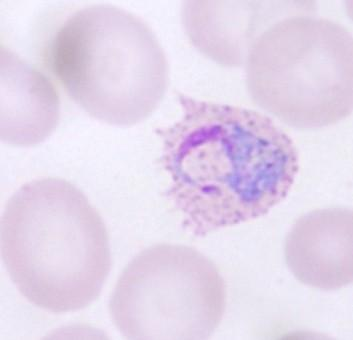Infected: (54, 107, 201, 246)
Uninfected: (243, 28, 353, 163), (186, 212, 299, 335), (0, 210, 106, 321), (127, 0, 244, 96), (34, 271, 170, 340), (0, 48, 68, 131)
